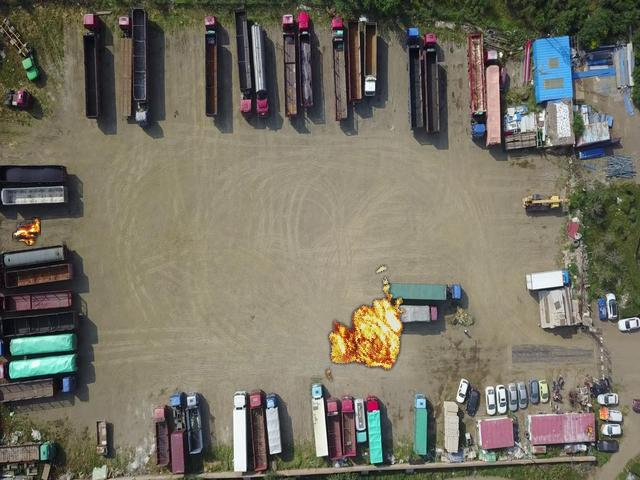fire: (325, 264, 406, 384), (568, 387, 611, 442), (13, 217, 39, 244)
